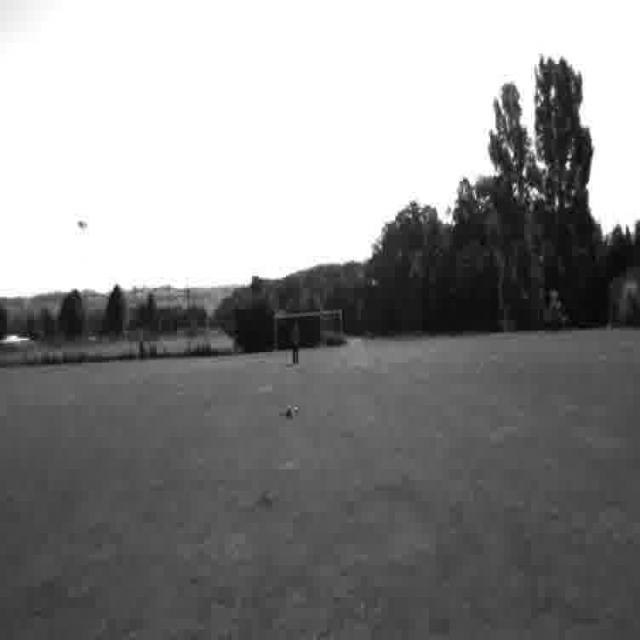drones: (278, 394, 304, 430)
